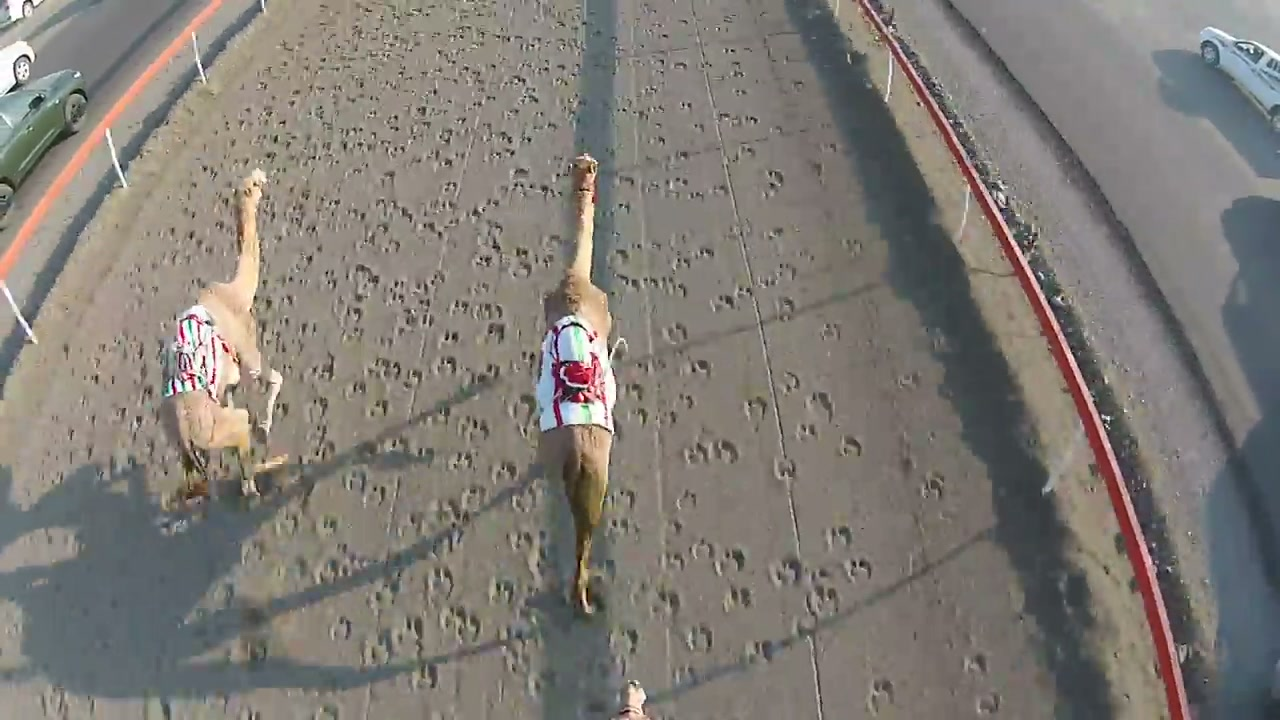animal_foot_print: (266, 137, 566, 709), (604, 71, 842, 688)
